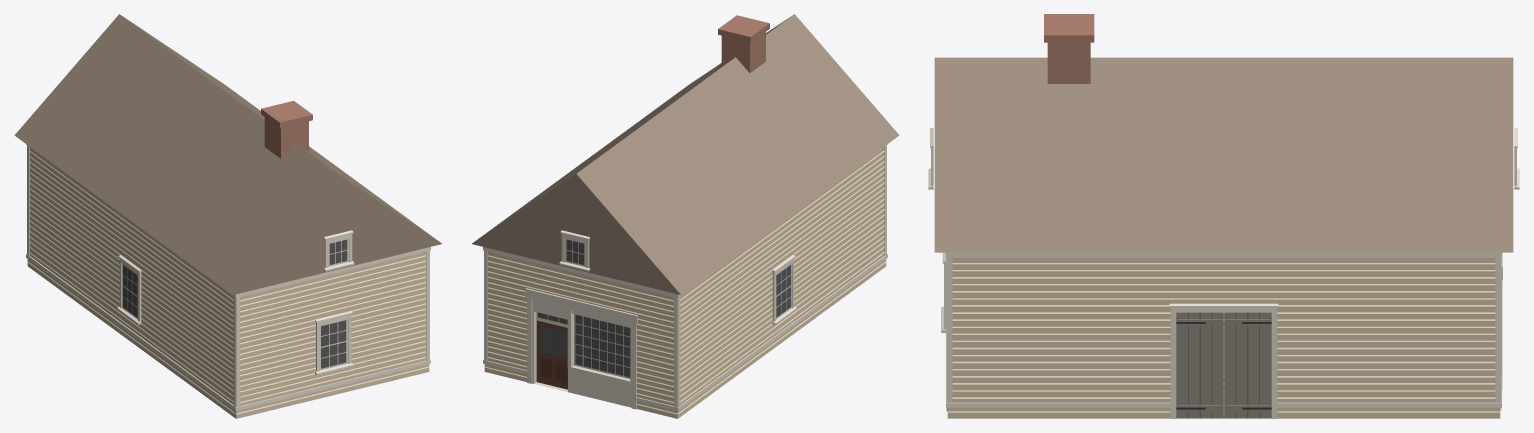
Rendered from recon_1835_blk_south_water_clark_c2_06__inferred_1835.glb.
3 views of the same model, side by side, from view 1: azimuth 30°, elevation 25°; view 2: azimuth 150°, elevation 25°; view 3: azimuth 270°, elevation 25° (orthographic). The views are drawn at different scales.
Visible parts, largest first — view 1: recon_1835_blk_south_water_clark_c2_06__inferred_1835; view 2: recon_1835_blk_south_water_clark_c2_06__inferred_1835; view 3: recon_1835_blk_south_water_clark_c2_06__inferred_1835.
Part boxes in pixels (bbox=[...]): recon_1835_blk_south_water_clark_c2_06__inferred_1835: bbox=[14, 14, 441, 418]; recon_1835_blk_south_water_clark_c2_06__inferred_1835: bbox=[472, 14, 899, 418]; recon_1835_blk_south_water_clark_c2_06__inferred_1835: bbox=[928, 14, 1519, 418].
Size of the model in its own units: 6.25 by 7.12 by 11.51.
